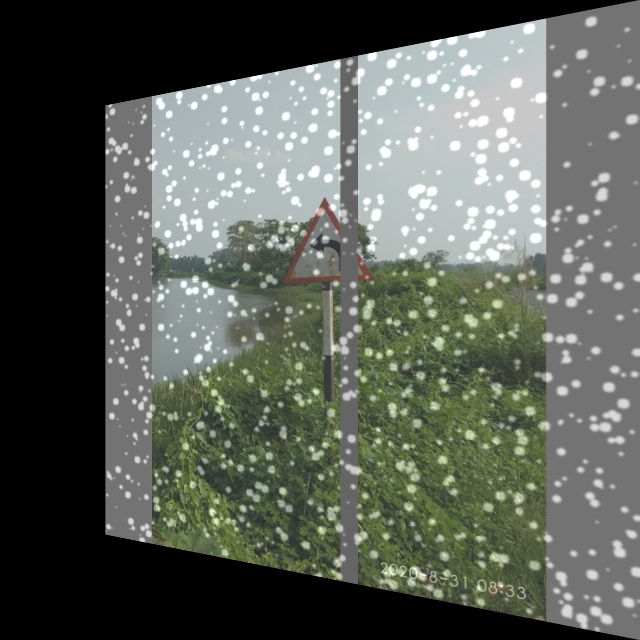Left_Hand_Curve: (278, 190, 375, 288)
